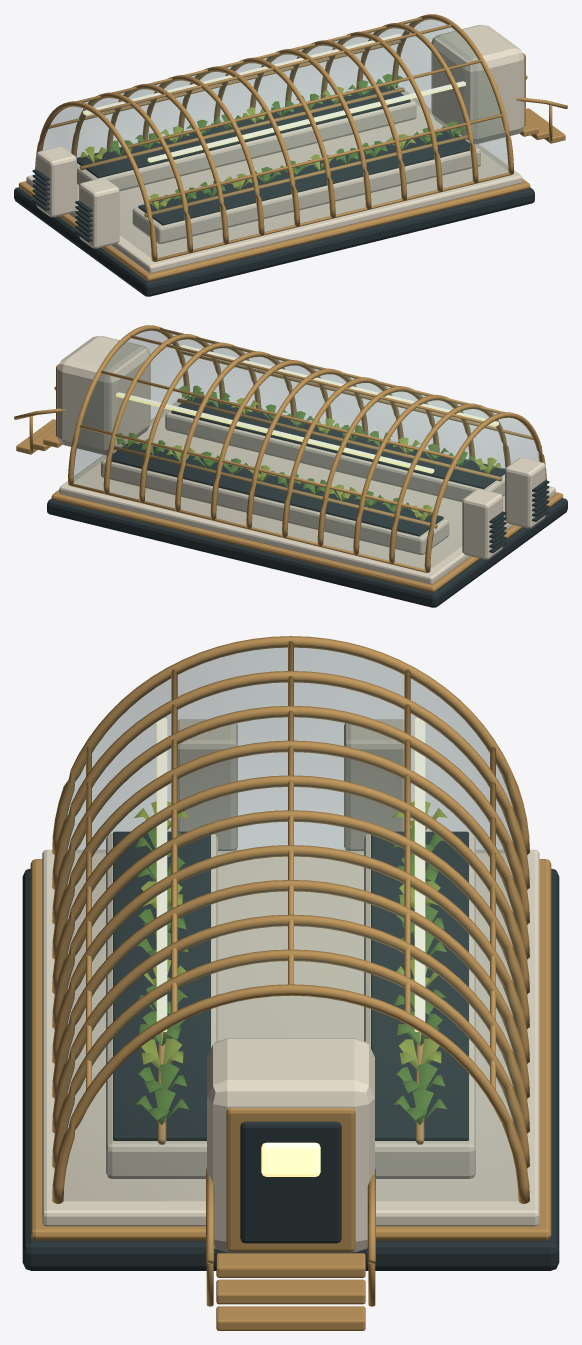
Rendered from greenhouse-g01.glb.
3 views of the same model, one above another, from view 1: azimuth 30°, elevation 25°; view 2: azimuth 150°, elevation 25°; view 3: azimuth 270°, elevation 25° (orthographic). The views are drawn at different scales.
Parts seen in each view (by area): view 1: H01 batch 03 / G01 / sealed glazing, H01 batch 02 / G01 / pressure ceramic, H01 batch 01 / G01 / satin brass ribs, H01 batch 00 / G01 / charcoal seals, H01 batch 05 / G01 / hydroponic leaves, H01 batch 06 / G01 / grow lamps, H01 batch 04 / G01 / young leaves; view 2: H01 batch 03 / G01 / sealed glazing, H01 batch 02 / G01 / pressure ceramic, H01 batch 01 / G01 / satin brass ribs, H01 batch 00 / G01 / charcoal seals, H01 batch 06 / G01 / grow lamps, H01 batch 05 / G01 / hydroponic leaves, H01 batch 04 / G01 / young leaves; view 3: H01 batch 03 / G01 / sealed glazing, H01 batch 01 / G01 / satin brass ribs, H01 batch 02 / G01 / pressure ceramic, H01 batch 00 / G01 / charcoal seals, H01 batch 05 / G01 / hydroponic leaves, H01 batch 06 / G01 / grow lamps, H01 batch 04 / G01 / young leaves.
Boxes of the visible parts, x1,y1,x2,y2 form: H01 batch 03 / G01 / sealed glazing: (42, 18, 508, 257); H01 batch 02 / G01 / pressure ceramic: (26, 25, 524, 273); H01 batch 01 / G01 / satin brass ribs: (18, 14, 567, 281); H01 batch 00 / G01 / charcoal seals: (14, 85, 534, 296); H01 batch 05 / G01 / hydroponic leaves: (109, 74, 465, 202); H01 batch 06 / G01 / grow lamps: (83, 34, 465, 162); H01 batch 04 / G01 / young leaves: (80, 87, 415, 210); H01 batch 03 / G01 / sealed glazing: (73, 329, 539, 568); H01 batch 02 / G01 / pressure ceramic: (57, 336, 555, 584); H01 batch 01 / G01 / satin brass ribs: (14, 325, 563, 592); H01 batch 00 / G01 / charcoal seals: (47, 396, 567, 607); H01 batch 06 / G01 / grow lamps: (116, 345, 498, 473); H01 batch 05 / G01 / hydroponic leaves: (116, 385, 475, 513); H01 batch 04 / G01 / young leaves: (166, 398, 501, 521); H01 batch 03 / G01 / sealed glazing: (60, 645, 521, 1200); H01 batch 01 / G01 / satin brass ribs: (30, 636, 551, 1330); H01 batch 02 / G01 / pressure ceramic: (42, 719, 539, 1252); H01 batch 00 / G01 / charcoal seals: (22, 831, 559, 1270); H01 batch 05 / G01 / hydroponic leaves: (135, 826, 446, 1124); H01 batch 06 / G01 / grow lamps: (156, 718, 425, 1176); H01 batch 04 / G01 / young leaves: (134, 801, 447, 1070).
Size of the model in its own units: 7.23 by 1.93 by 3.45.
